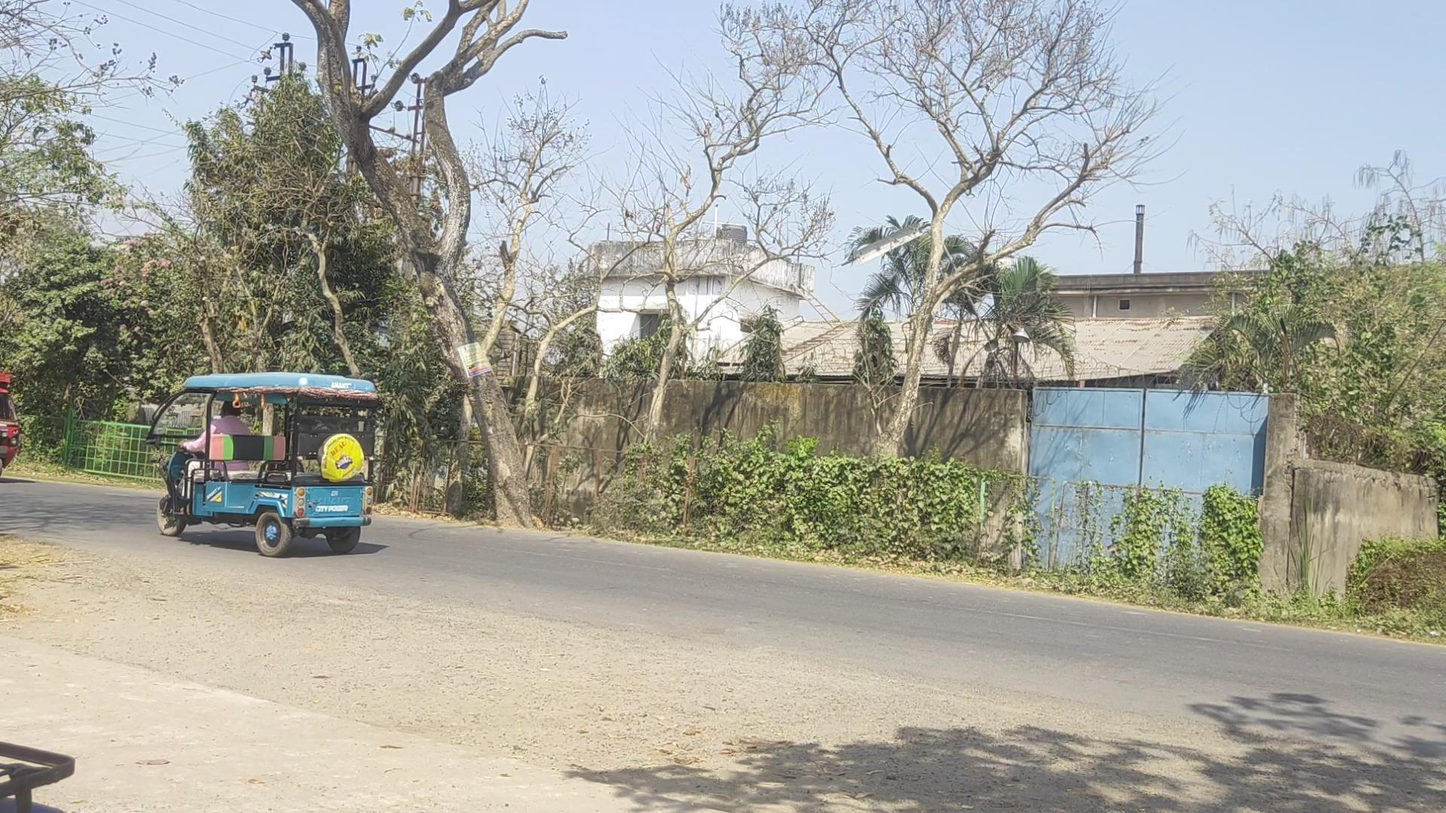Auto: (147, 373, 379, 559)
